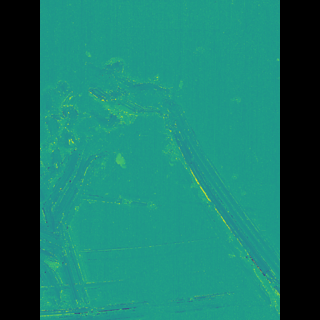Loch: (102, 45, 249, 319), (68, 57, 125, 320), (70, 285, 218, 319)
